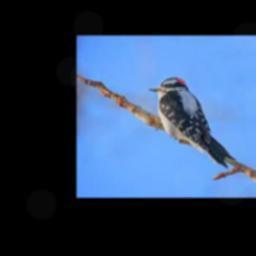Woodpecker: (148, 77, 236, 168)
